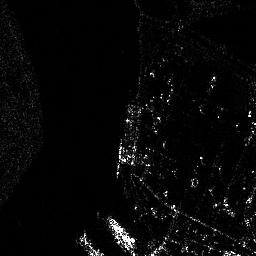ship: (105, 215, 137, 249)
